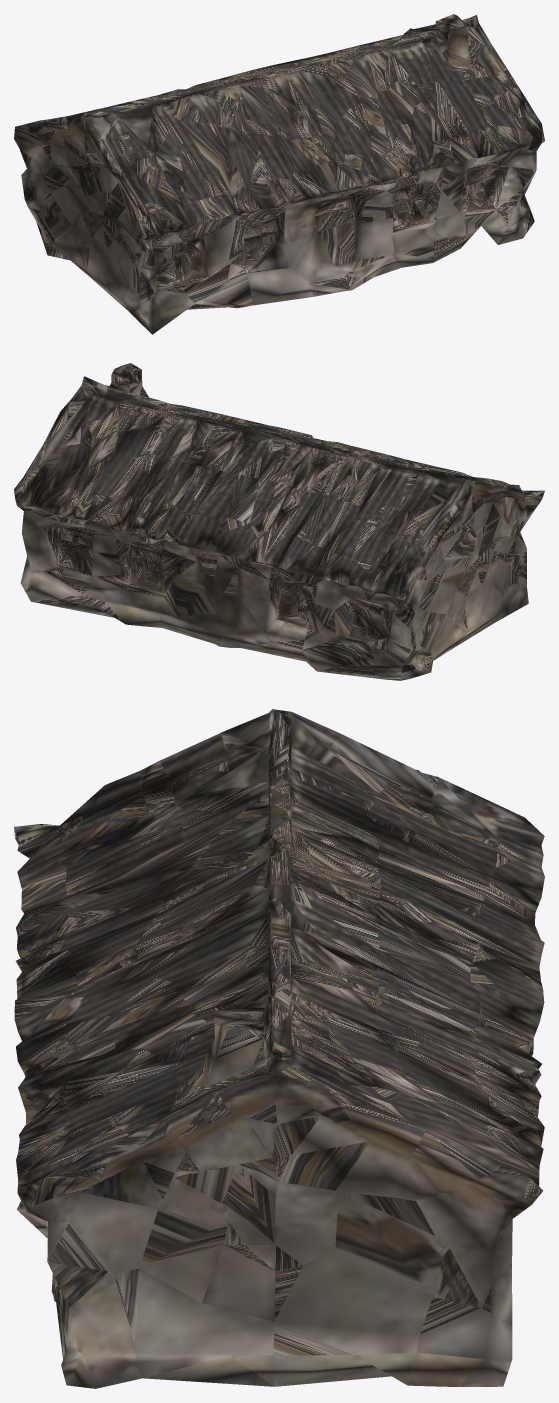
Rendered from bq_house_stone.lod2.glb.
3 renders of one model, top to bottom at view 1: azimuth 30°, elevation 25°; view 2: azimuth 150°, elevation 25°; view 3: azimuth 270°, elevation 25°, orthographic. The views are drawn at different scales.
Size of the model in its own units: 1.88 by 0.8478 by 1.15.
1 material, 1 textured.
